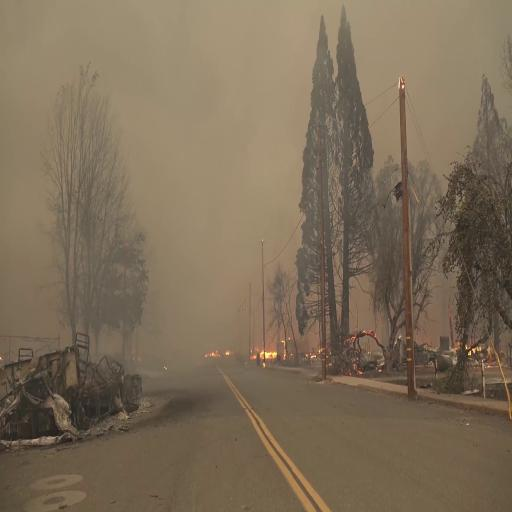smoke: (160, 0, 222, 338), (164, 4, 258, 194), (0, 5, 43, 337)
